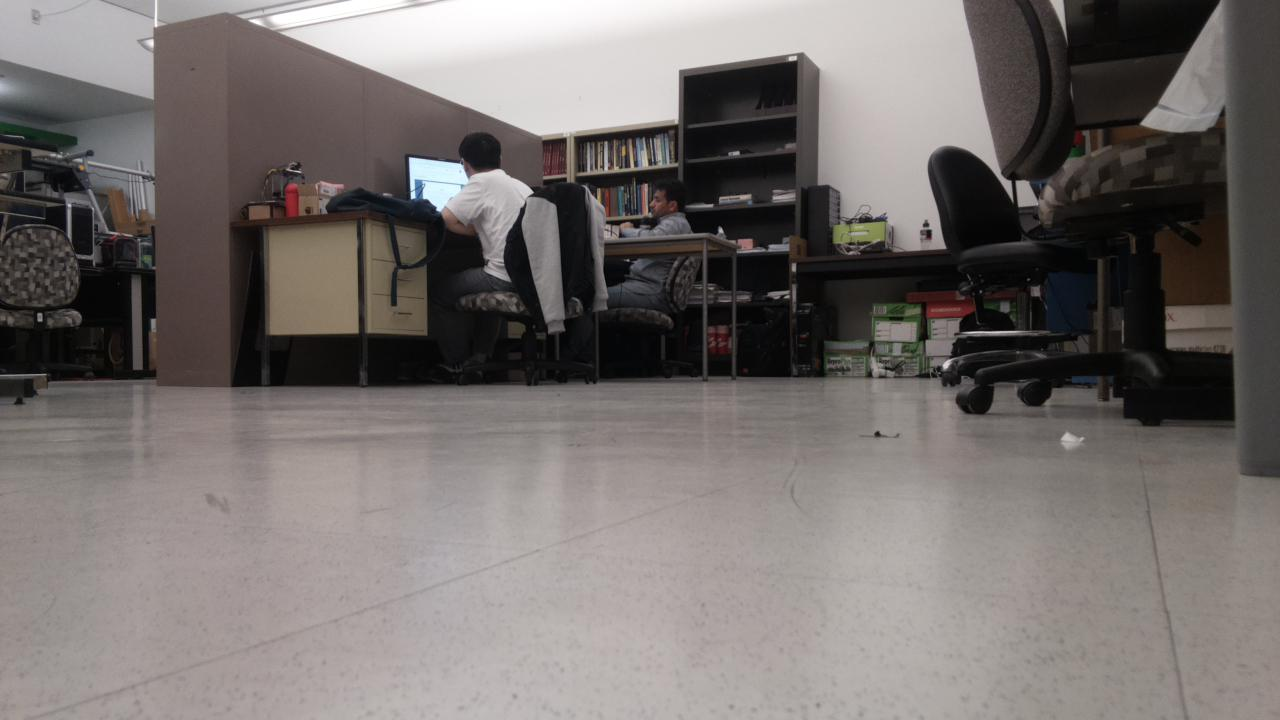person: (426, 132, 534, 385), (606, 178, 694, 315)
